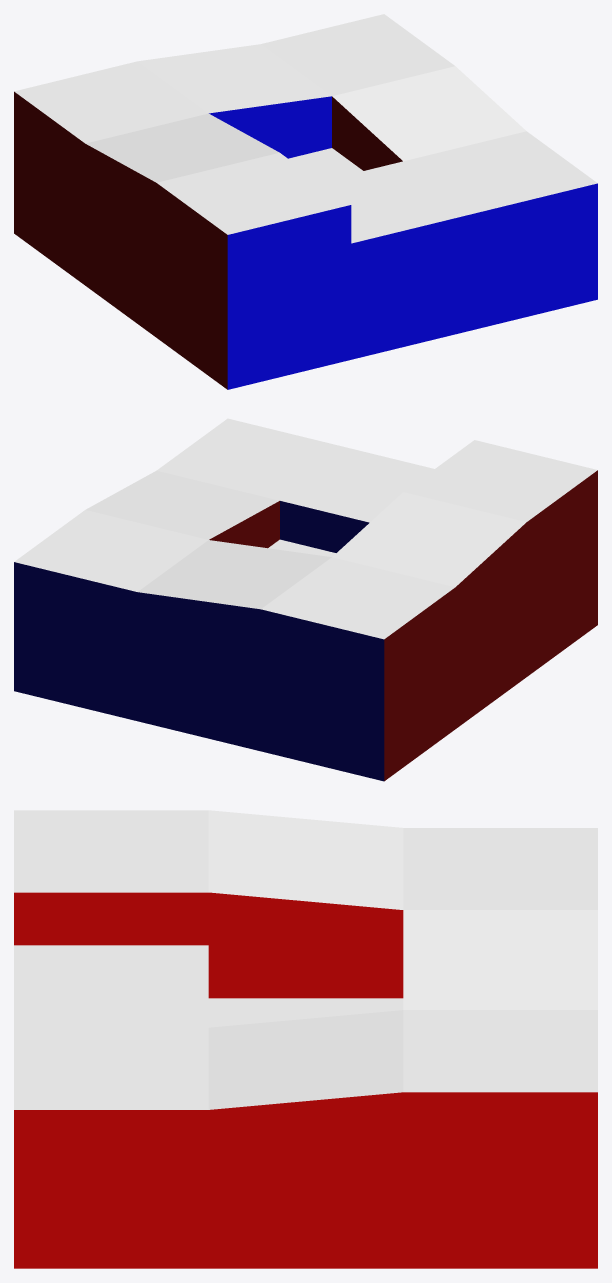
The model's file is labeled_mesh.glb.
The picture shows the model from 3 angles, top to bottom: view 1: azimuth 30°, elevation 25°; view 2: azimuth 150°, elevation 25°; view 3: azimuth 270°, elevation 25°; orthographic projection. The views are drawn at different scales.
Bounding box in the file's own units: 3000 × 1200 × 3000.
Materials: 1 (1 with a texture image).
